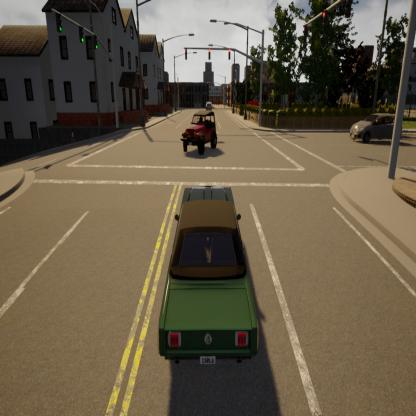Cars: (147, 174, 265, 371), (174, 108, 226, 162), (346, 108, 406, 146), (205, 99, 214, 119)
Pedestrian: (70, 128, 74, 146)
